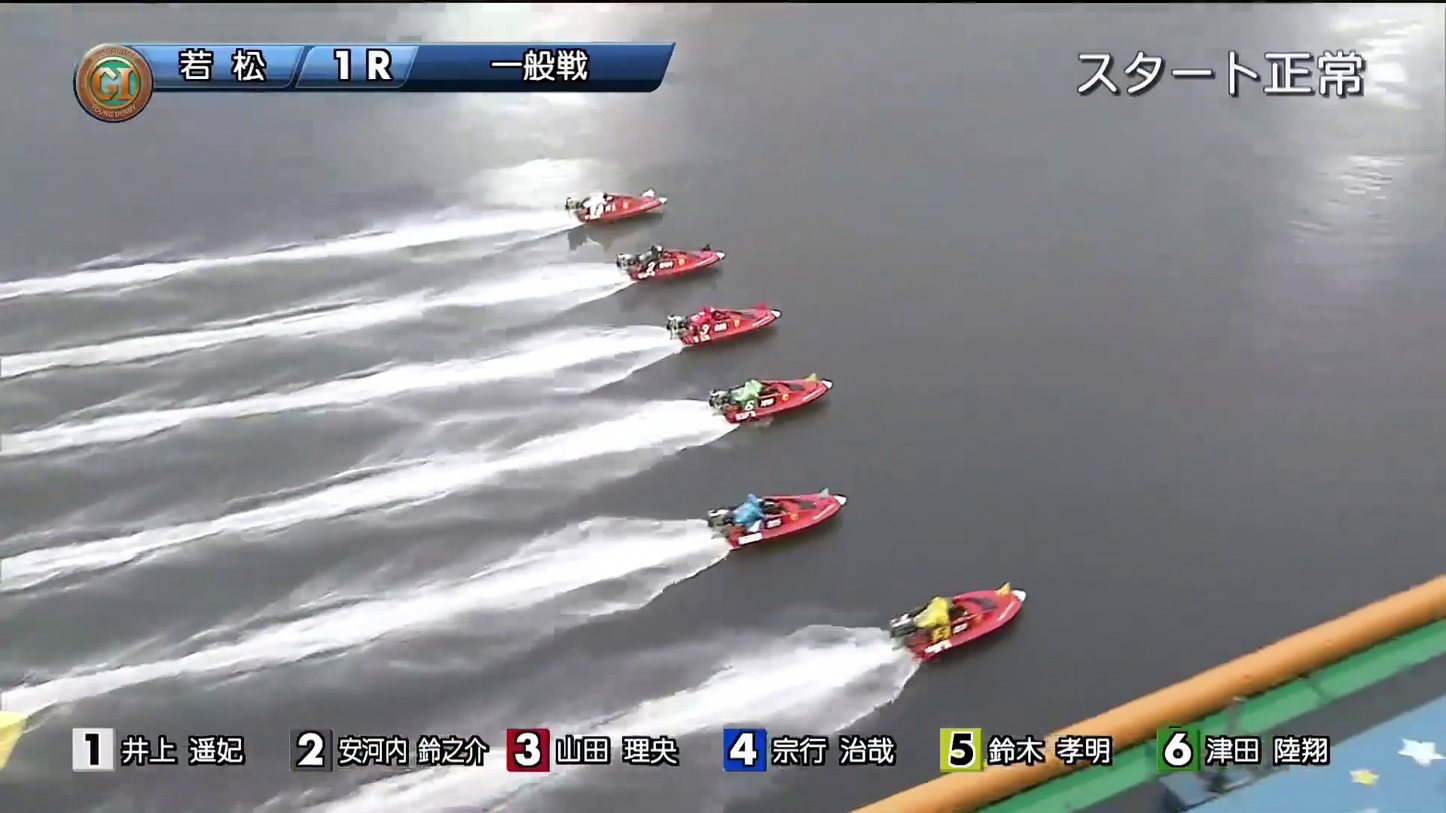１号艇: (579, 186, 654, 226)
２号艇: (613, 239, 716, 277)
３号艇: (662, 300, 787, 341)
４号艇: (711, 373, 815, 417)
５号艇: (702, 490, 823, 545)
６号艇: (860, 591, 1018, 648)
